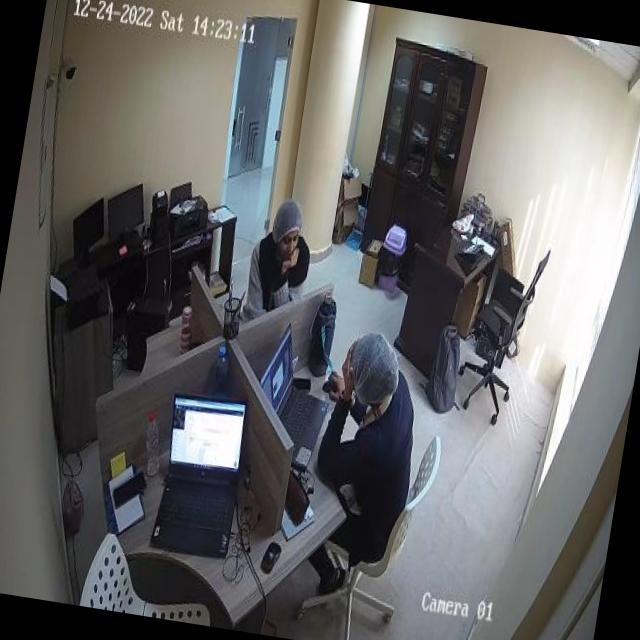hairnet: (340, 329, 406, 412), (270, 197, 306, 246)
